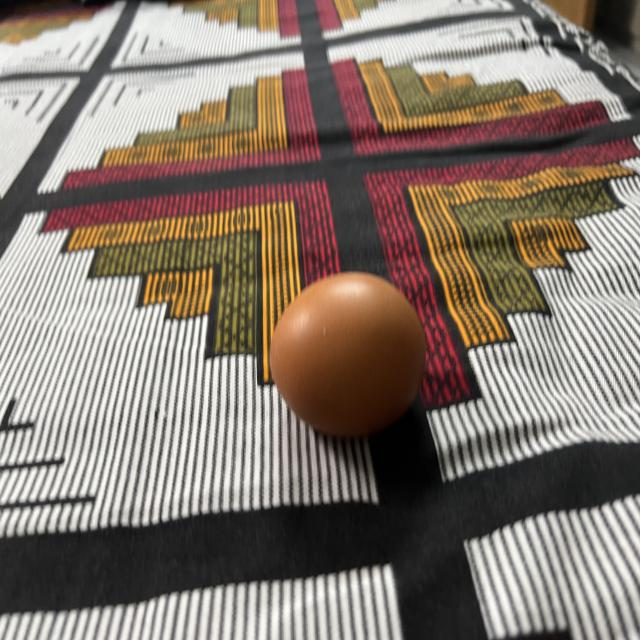Egg: (267, 268, 430, 443)
